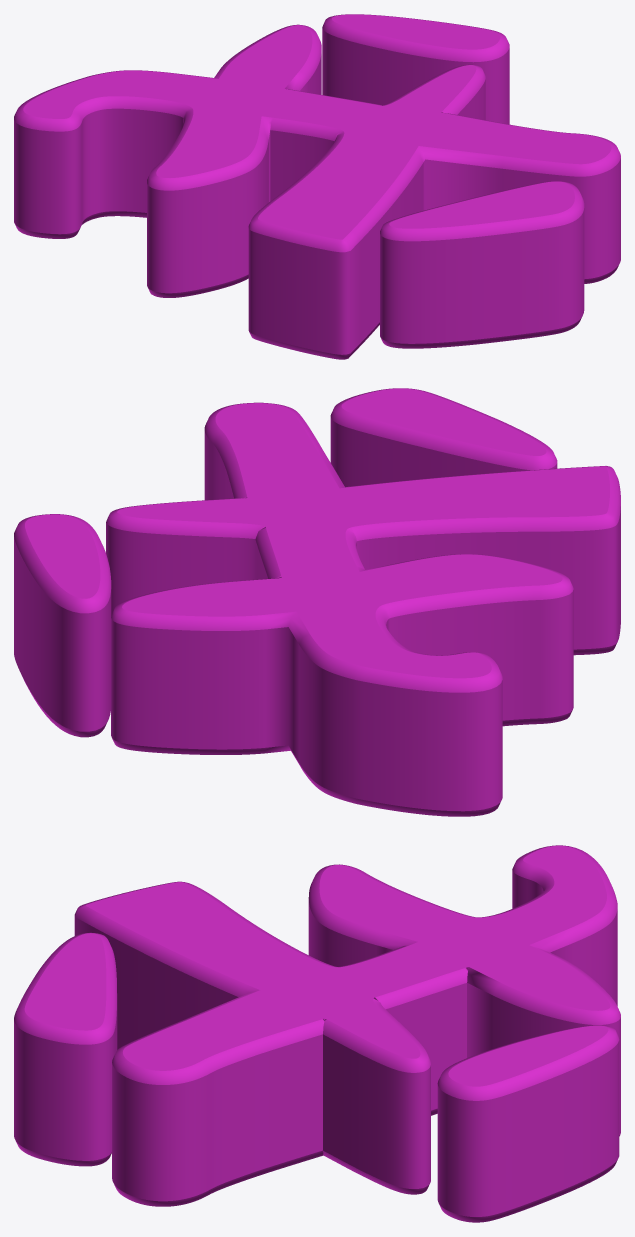
File: Ambersand.fbx
The picture shows the model from 3 angles, top to bottom: view 1: azimuth 30°, elevation 25°; view 2: azimuth 150°, elevation 25°; view 3: azimuth 270°, elevation 25°; orthographic projection. The views are drawn at different scales.
Visible parts, largest first — view 1: Ambersand; view 2: Ambersand; view 3: Ambersand.
Boxes of the visible parts, left/top/right/bottom form: Ambersand: left=14, top=14, right=620, bottom=359; Ambersand: left=14, top=388, right=620, bottom=816; Ambersand: left=14, top=845, right=620, bottom=1222.
Size of the model in its own units: 0.5538 by 0.14 by 0.5682.
